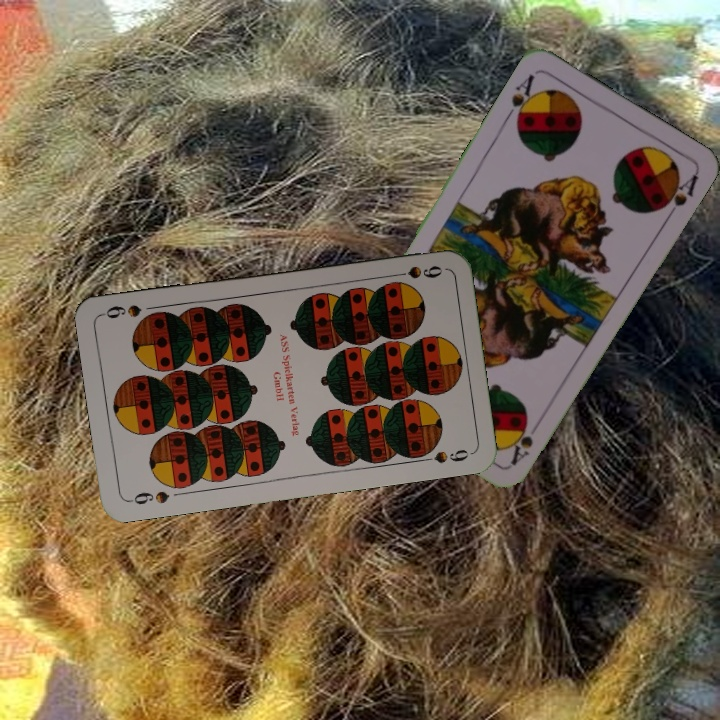S9: (386, 262, 446, 281), (125, 487, 172, 507)
SA: (501, 70, 541, 128), (506, 416, 536, 468)
